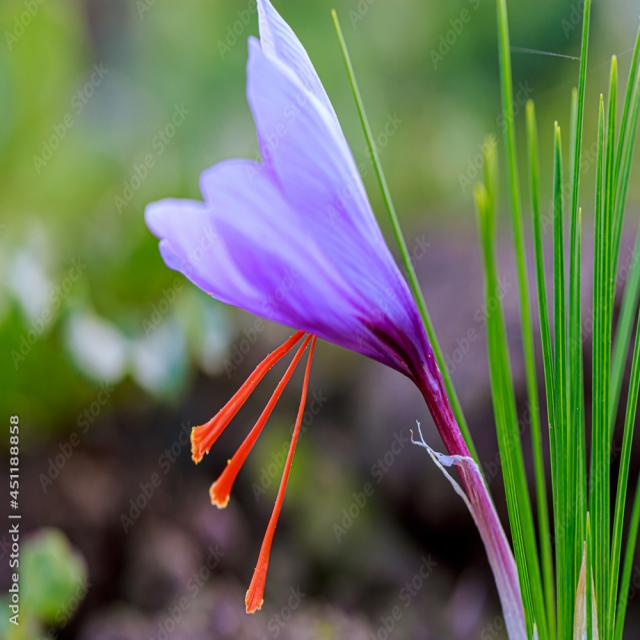saffron open: (143, 0, 446, 435)
